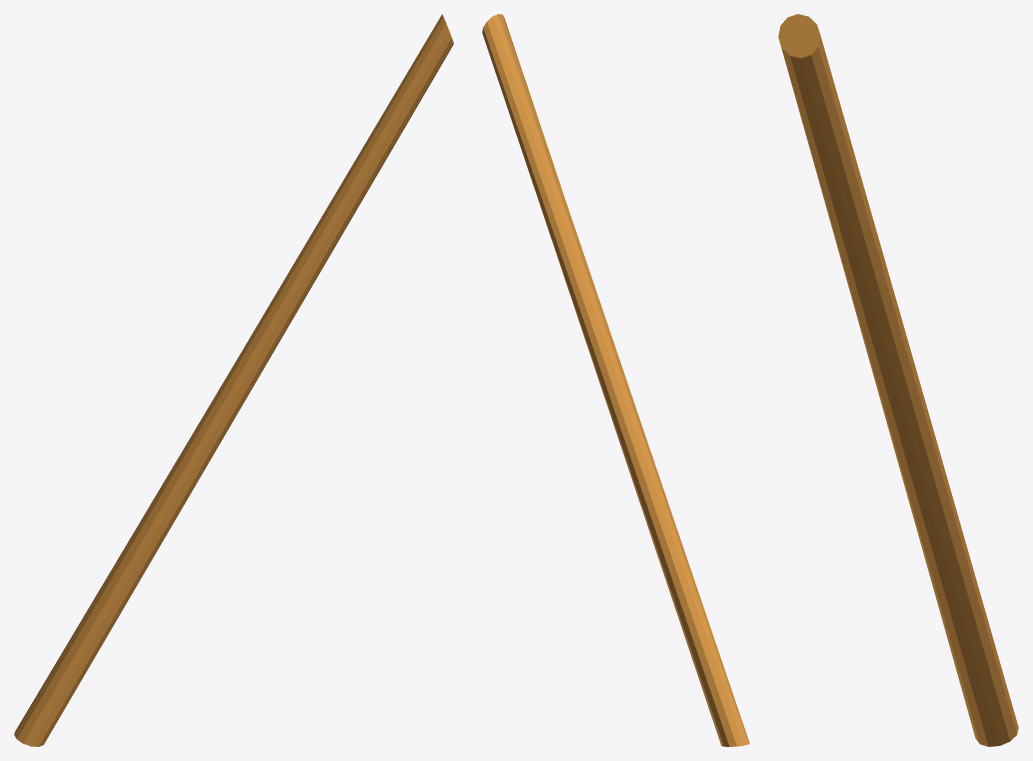
The model's file is group89805499_lev3.002.glb.
3 renders of one model, left to right at view 1: azimuth 30°, elevation 25°; view 2: azimuth 150°, elevation 25°; view 3: azimuth 270°, elevation 25°, orthographic. The views are drawn at different scales.
Parts seen in each view (by area): view 1: group89805499_lev3.002; view 2: group89805499_lev3.002; view 3: group89805499_lev3.002.
Boxes of the visible parts, x1,y1,x2,y2 form: group89805499_lev3.002: (14,14,453,746); group89805499_lev3.002: (482,14,749,746); group89805499_lev3.002: (778,14,1018,746).
Bounding box in the file's own units: 1.31 × 2.38 × 0.5447.
